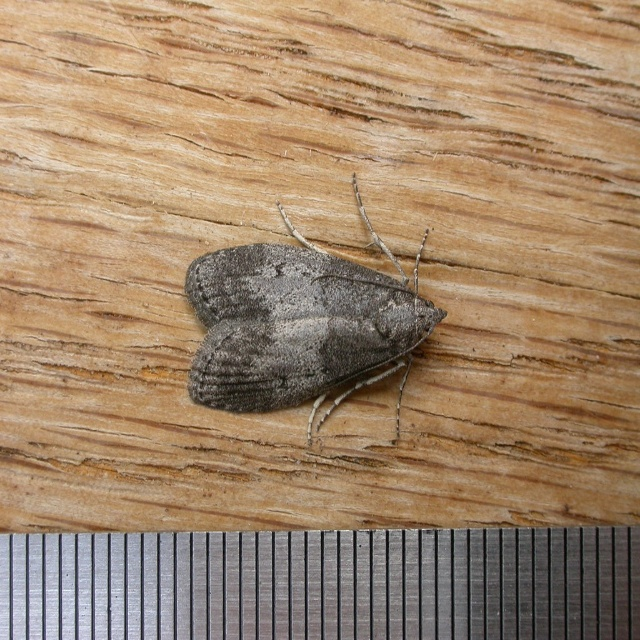Moths and butterflies: (184, 168, 451, 453)
